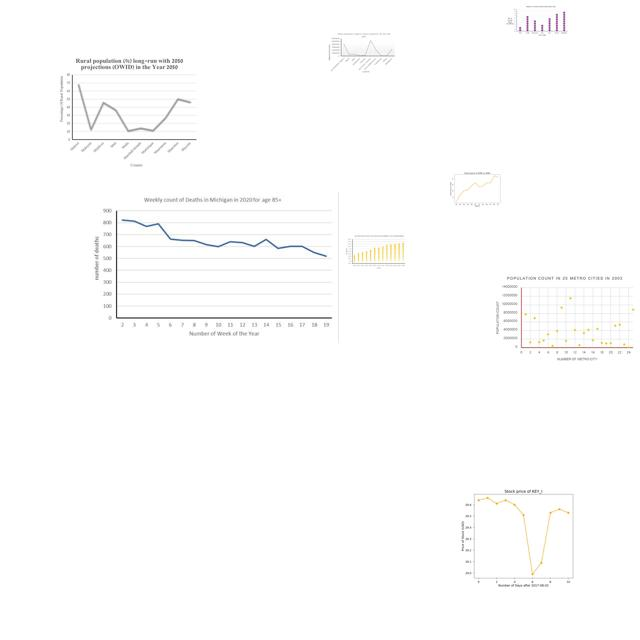Graph: (88, 192, 339, 343), (442, 481, 601, 590), (57, 57, 199, 169), (494, 275, 638, 365), (327, 32, 396, 73), (447, 168, 506, 209), (344, 234, 406, 270), (506, 5, 569, 37)
